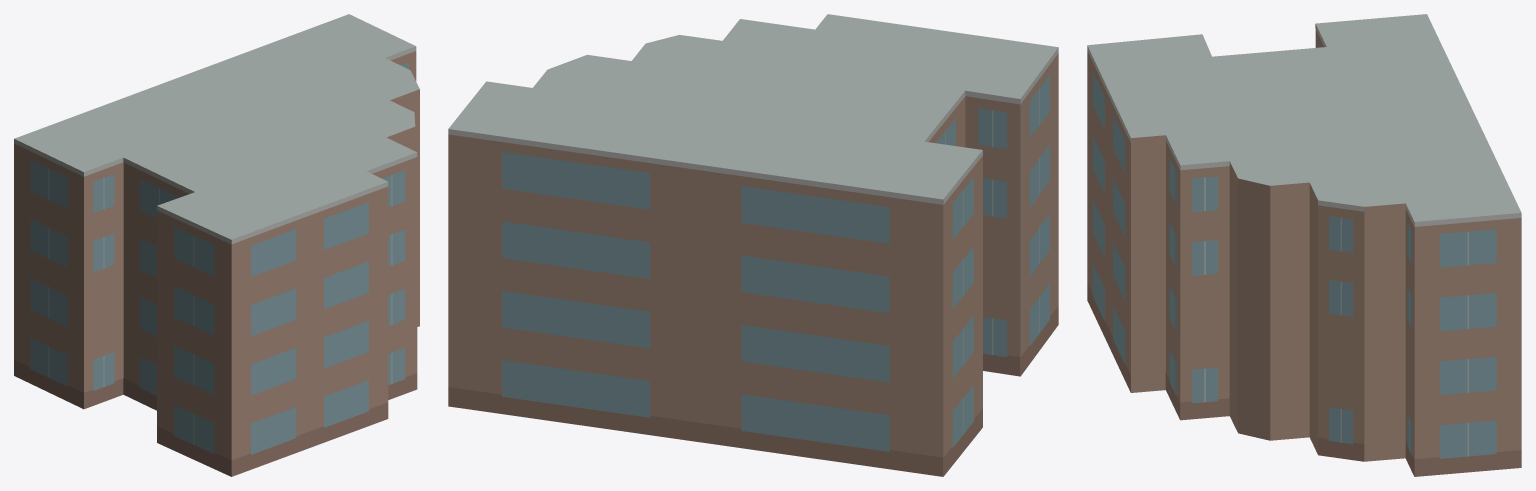
Rendered from survey-upis-32935280.glb.
The picture shows the model from 3 angles, left to right: view 1: azimuth 30°, elevation 25°; view 2: azimuth 150°, elevation 25°; view 3: azimuth 270°, elevation 25°; orthographic projection. The views are drawn at different scales.
Parts seen in each view (by area): view 1: survey-upis-32935280.tmp; view 2: survey-upis-32935280.tmp; view 3: survey-upis-32935280.tmp.
Boxes of the visible parts, <box> form: survey-upis-32935280.tmp: <box>14,14,419,476</box>; survey-upis-32935280.tmp: <box>448,14,1058,476</box>; survey-upis-32935280.tmp: <box>1087,14,1521,476</box>.
Size of the model in its own units: 21.89 by 12.5 by 19.32.
